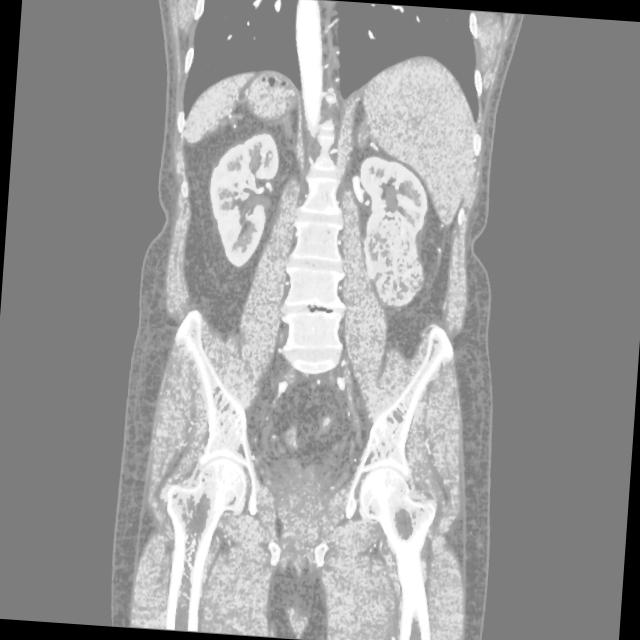TUMOR: (140, 152, 457, 362)
